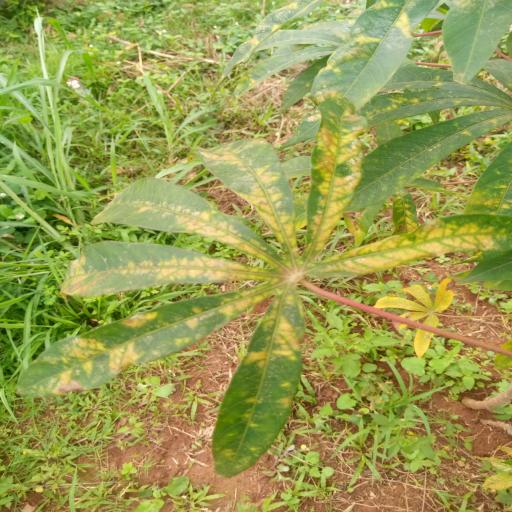Cassava_Mosaic: (5, 110, 512, 476)
